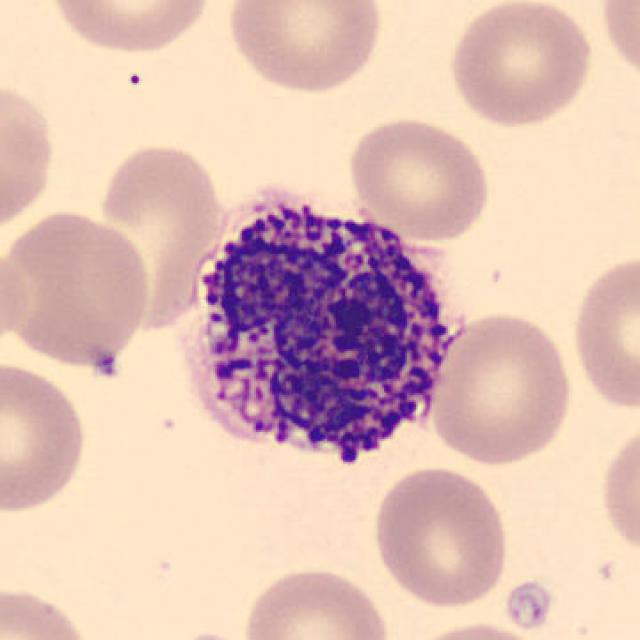Basophil: (164, 171, 478, 490)
Platelets: (502, 578, 556, 633), (87, 344, 125, 381)
RBC: (90, 136, 228, 333), (1, 206, 154, 368), (425, 307, 578, 467), (368, 462, 512, 610), (442, 0, 597, 130), (345, 113, 494, 243), (222, 0, 388, 97), (0, 356, 91, 517), (238, 562, 396, 640), (567, 249, 640, 414), (0, 72, 60, 237), (42, 0, 215, 56), (595, 416, 640, 562), (0, 582, 98, 640), (0, 240, 34, 356), (596, 0, 638, 88), (400, 619, 553, 640)
